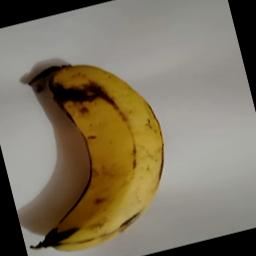Banana Unripe: (0, 39, 191, 256)
